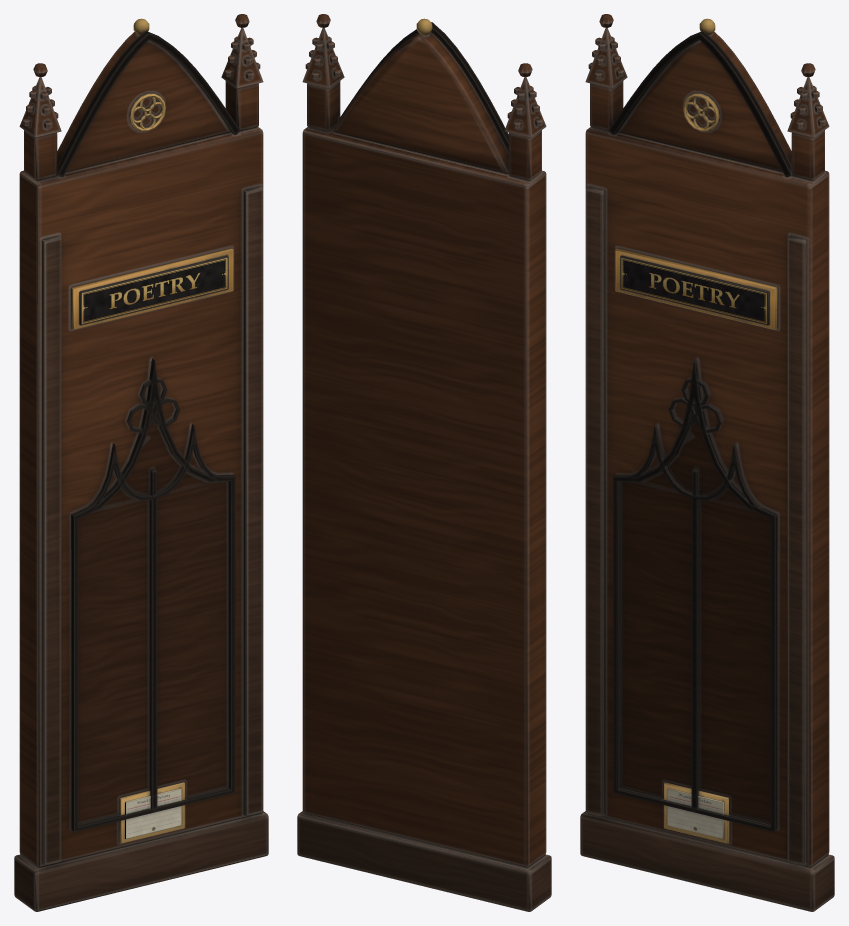
File: ShelfEndCap.fbx
3 views of the same model, side by side, from view 1: azimuth 30°, elevation 25°; view 2: azimuth 150°, elevation 25°; view 3: azimuth 330°, elevation 25° (orthographic).
Visible parts, largest first — view 1: ShelfEndCap; view 2: ShelfEndCap; view 3: ShelfEndCap.
Part boxes in pixels (x1,y1,x2,y2): ShelfEndCap: (14, 14, 268, 911); ShelfEndCap: (297, 14, 551, 911); ShelfEndCap: (580, 14, 834, 911).
Size of the model in its own units: 291 by 1015 by 52.8.
